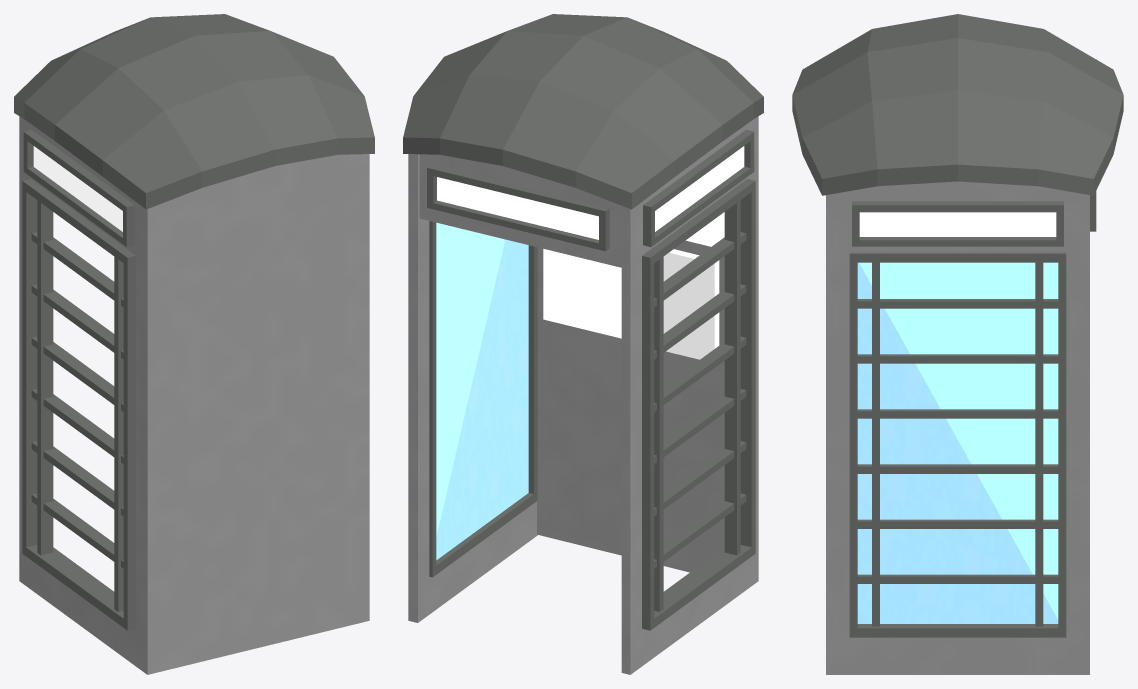
Rendered from phone_box.glb.
3 views of the same model, side by side, from view 1: azimuth 30°, elevation 25°; view 2: azimuth 150°, elevation 25°; view 3: azimuth 270°, elevation 25° (orthographic). The views are drawn at different scales.
Visible parts, largest first — view 1: phone_box(Clone); view 2: phone_box(Clone); view 3: phone_box(Clone).
Boxes of the visible parts, left/top/right/bottom form: phone_box(Clone): left=14, top=14, right=374, bottom=674; phone_box(Clone): left=403, top=14, right=763, bottom=674; phone_box(Clone): left=792, top=14, right=1123, bottom=674.
Size of the model in its own units: 1.14 by 2.21 by 1.14.
1 material, 1 textured.
